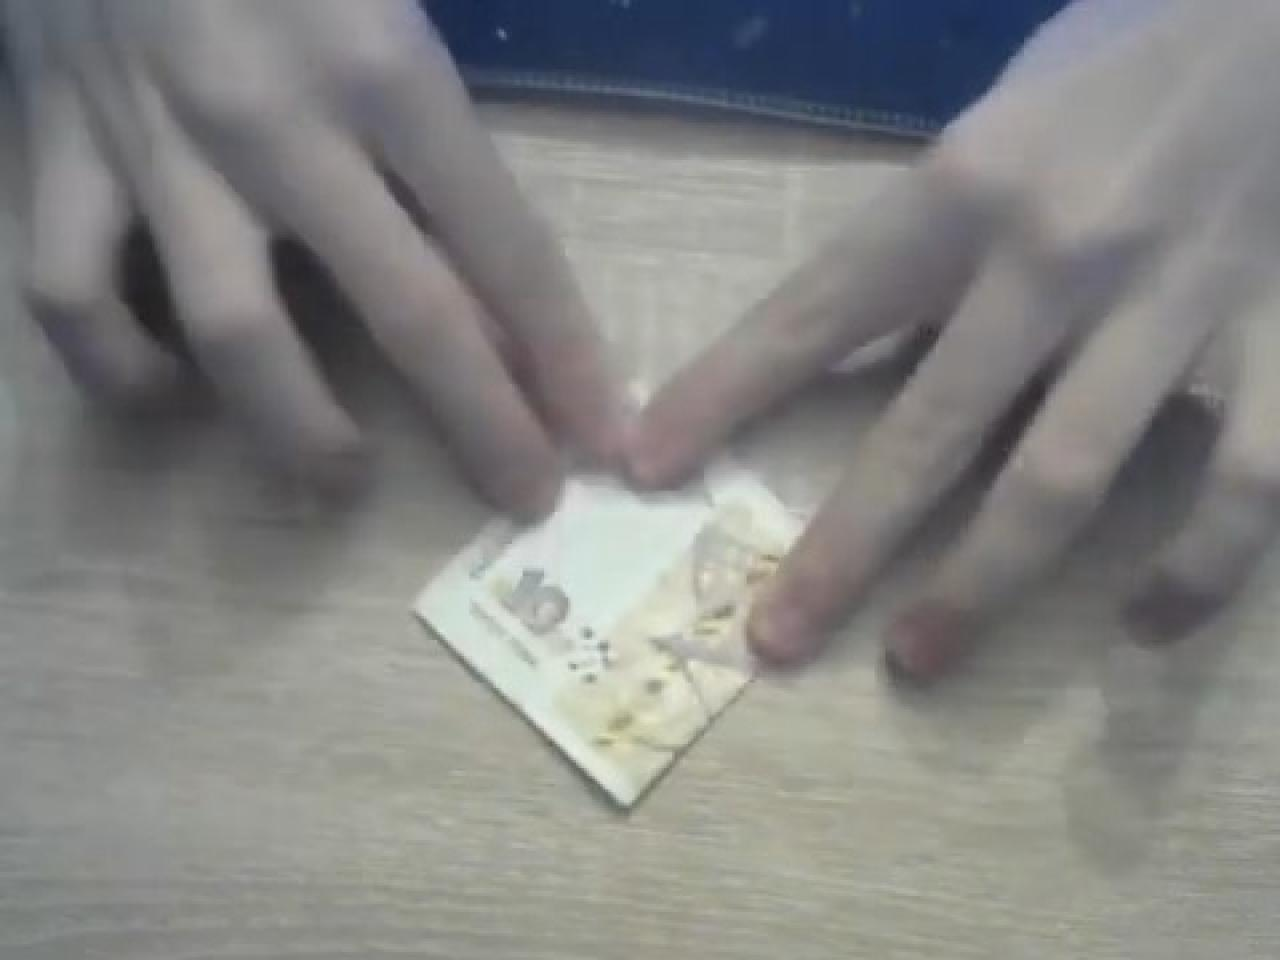10leva: (408, 469, 808, 816)
